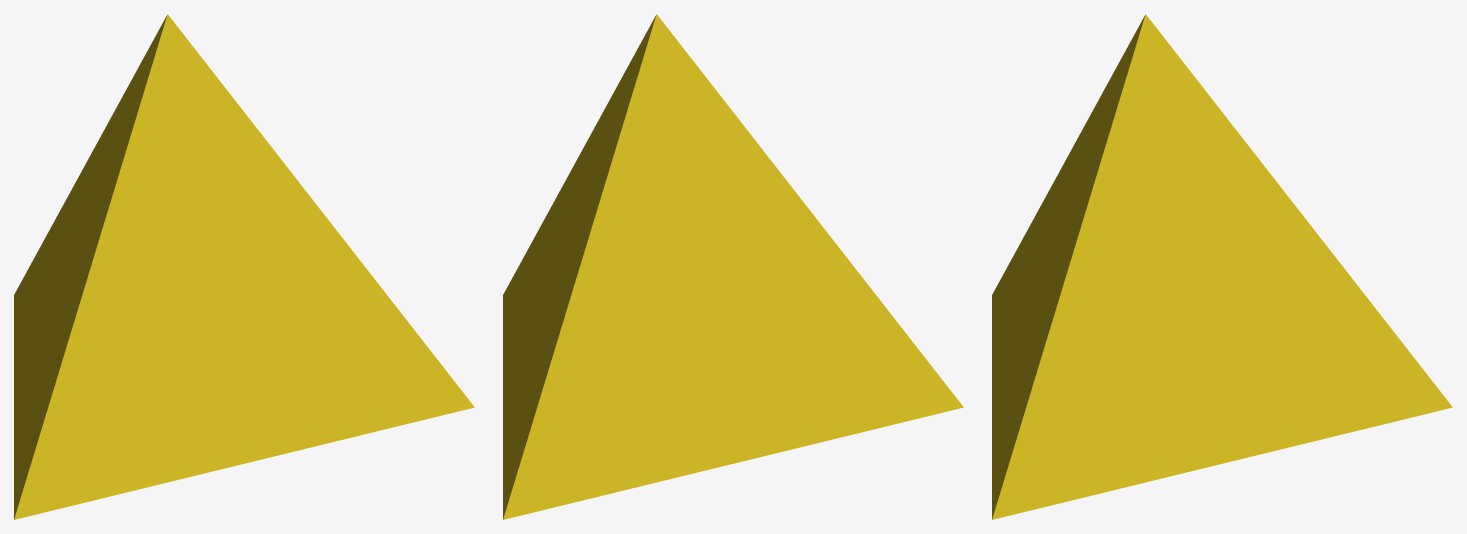
File: triangle.glb
The picture shows the model from 3 angles, left to right: view 1: azimuth 30°, elevation 25°; view 2: azimuth 150°, elevation 25°; view 3: azimuth 270°, elevation 25°; orthographic projection.
Visible parts, largest first — view 1: Triangle; view 2: Triangle; view 3: Triangle.
Boxes of the visible parts, x1,y1,x2,y2 form: Triangle: (14, 14, 474, 519); Triangle: (503, 14, 963, 519); Triangle: (992, 14, 1452, 519).
Size of the model in its own units: 3 by 2.45 by 2.6.
